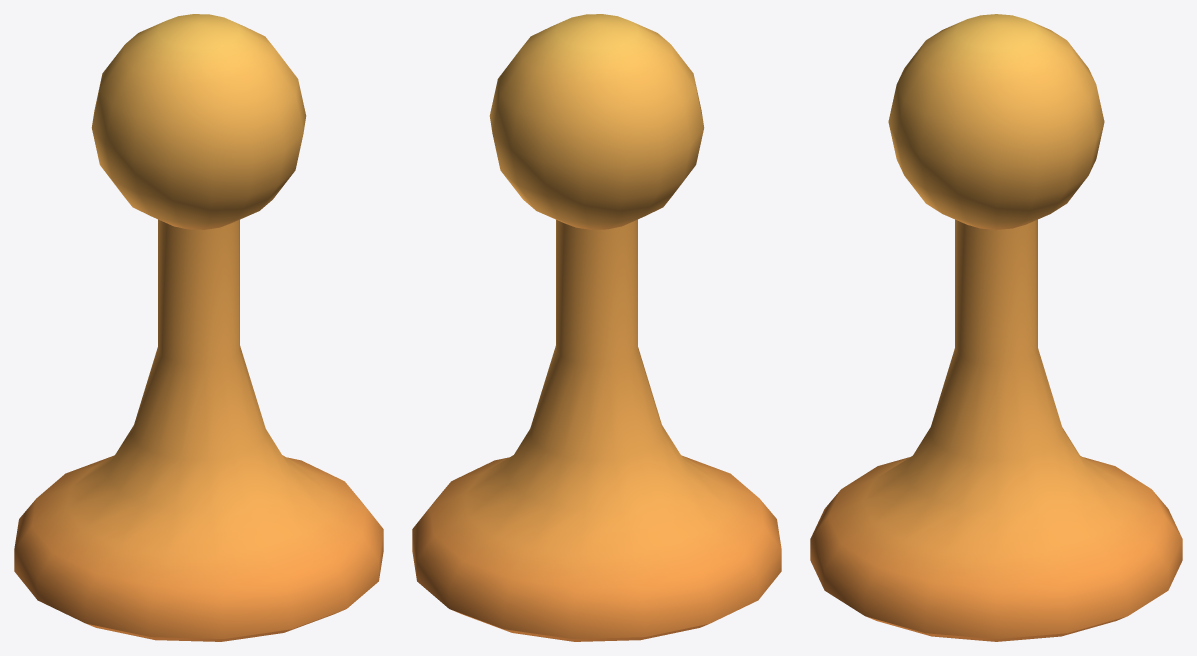
The model's file is pawn_B_yellow.obj.
The picture shows the model from 3 angles, left to right: view 1: azimuth 30°, elevation 25°; view 2: azimuth 150°, elevation 25°; view 3: azimuth 270°, elevation 25°; orthographic projection.
Visible parts, largest first — view 1: pawn_B_yellow; view 2: pawn_B_yellow; view 3: pawn_B_yellow.
Boxes of the visible parts, x1,y1,x2,y2 form: pawn_B_yellow: [14, 14, 383, 641]; pawn_B_yellow: [412, 14, 781, 641]; pawn_B_yellow: [810, 14, 1182, 641].
Size of the model in its own units: 0.75 by 1.21 by 0.75.
1 material, 1 textured.
